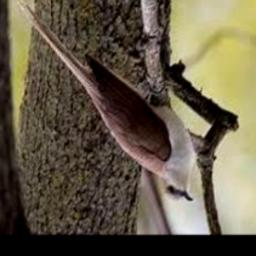Cuckoo: (16, 0, 194, 202)
